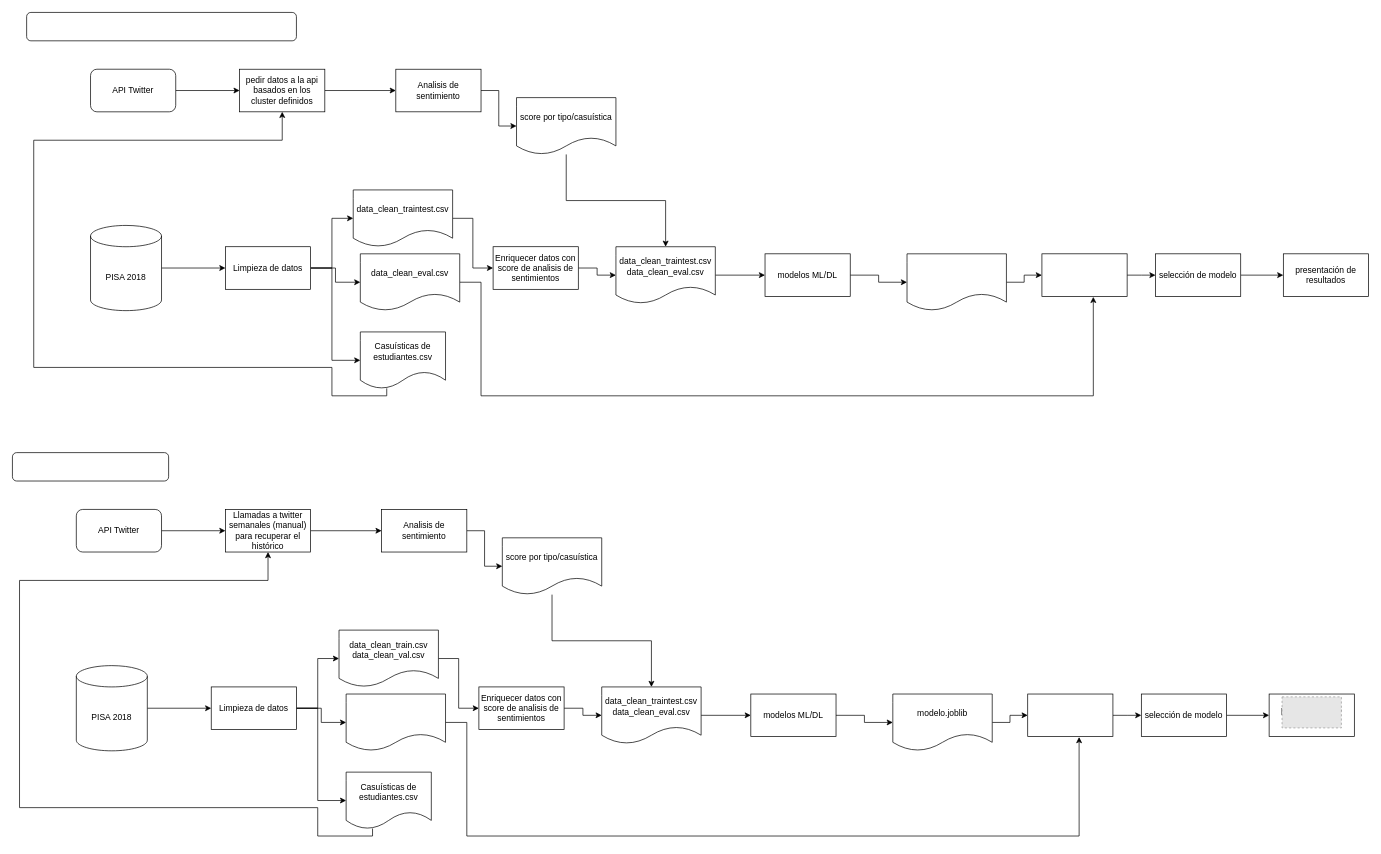
Image size: 1381x854. Some labels were removed from this diagram. Grey dashed boxes stand in for pictures. Here are the shapes that lost their labels. From the top down, the box of each, then its label:
(26, 12, 296, 41): Boceto arquitectura
(906, 253, 1006, 311): modelo.pkl resultados de test/train
(1041, 253, 1127, 296): evaluación de modelos con datos de eval
(12, 452, 169, 481): Arquitectura final
(345, 693, 446, 751): data_clean_test.csv
(1027, 693, 1113, 737): evaluación de modelos con datos de test
